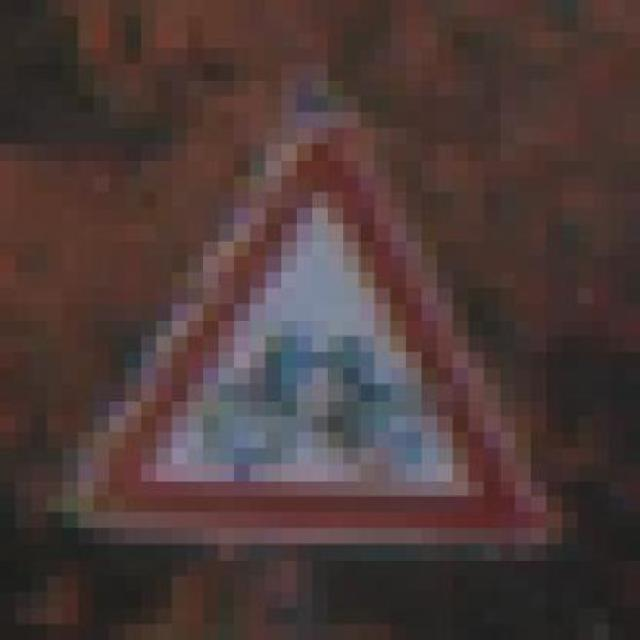CYCLE ROUTE AHEAD WARNING: (62, 80, 578, 560)
